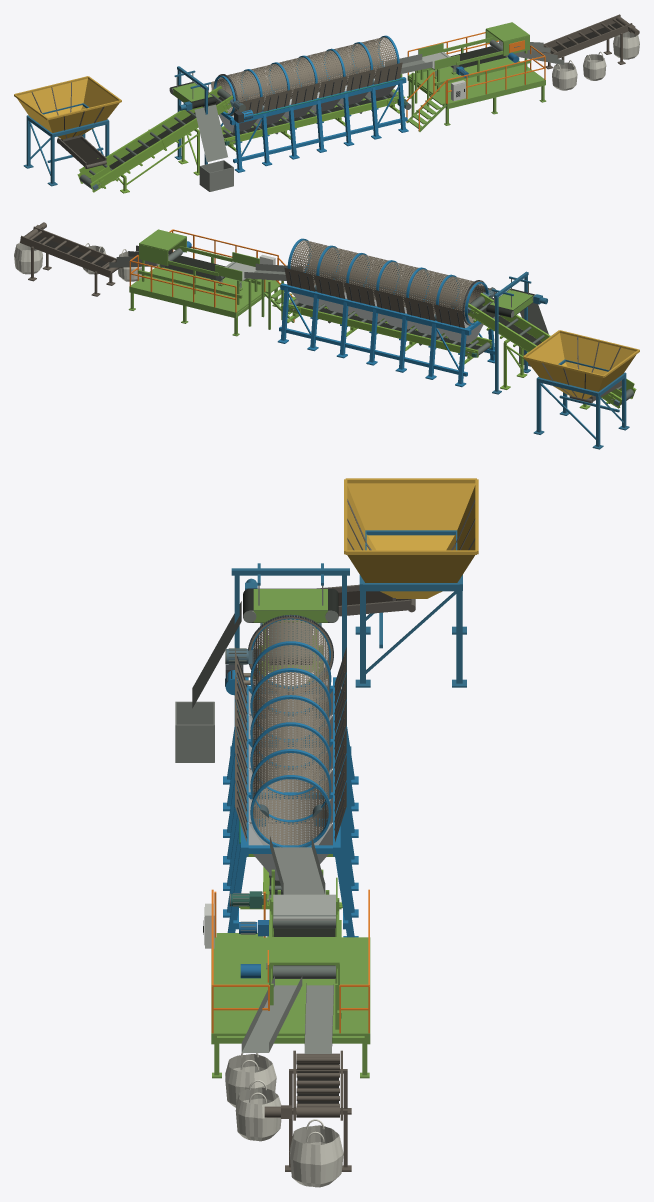
File: BIO_planta_v11.glb
3 renders of one model, top to bottom at view 1: azimuth 30°, elevation 25°; view 2: azimuth 150°, elevation 25°; view 3: azimuth 270°, elevation 25°, orthographic. The views are drawn at different scales.
Parts seen in each view (by area): view 1: Tolva_chapa_amarilla, Piso_plataforma, Chute_ferrosos_SUPUESTO, Larguero_alimentacion_-1, Viga_superior, Panel_02_circular_EST, Panel_03_circular_EST, Panel_04_circular_EST, Panel_01_circular_EST, Panel_05_circular_EST, Larguero_alimentacion_1, Panel_00_circular_EST (+28 smaller); view 2: Tolva_chapa_amarilla, Piso_plataforma, Viga_superior.001, Panel_02_circular_EST, Panel_04_circular_EST, Panel_03_circular_EST, Panel_01_circular_EST, Panel_05_circular_EST, Panel_00_circular_EST, Larguero_verde_1, Viga_inferior.001, Lateral_banda_seleccion_EST.001 (+25 smaller); view 3: Tolva_chapa_amarilla, Piso_plataforma, Panel_05_circular_EST, Panel_04_circular_EST, Saco_extremo_banda_EST, Panel_03_circular_EST, Cuerpo_imán_SUPUESTO, Tromel_a_alimentador_Eddy_SUPUESTO, Salida_noferrosos_SUPUESTO, Panel_02_circular_EST, Panel_01_circular_EST, Cubierta_cabezal (+8 smaller).
Boxes of the visible parts, box(x1,y1,x2,y2) form: Tolva_chapa_amarilla: box(17, 78, 119, 139); Piso_plataforma: box(407, 57, 545, 104); Chute_ferrosos_SUPUESTO: box(194, 104, 227, 162); Larguero_alimentacion_-1: box(90, 97, 232, 191); Viga_superior: box(230, 77, 406, 124); Panel_02_circular_EST: box(270, 57, 315, 98); Panel_03_circular_EST: box(298, 50, 342, 92); Panel_04_circular_EST: box(326, 43, 370, 85); Panel_01_circular_EST: box(243, 64, 287, 105); Panel_05_circular_EST: box(353, 37, 396, 78); Larguero_alimentacion_1: box(78, 87, 222, 182); Panel_00_circular_EST: box(214, 70, 259, 114); Tolva_chapa_amarilla: box(525, 333, 636, 399); Piso_plataforma: box(129, 264, 277, 313); Viga_superior.001: box(280, 283, 471, 335); Panel_02_circular_EST: box(379, 261, 427, 307); Panel_04_circular_EST: box(319, 247, 367, 292); Panel_03_circular_EST: box(349, 254, 397, 299); Panel_01_circular_EST: box(409, 269, 456, 314); Panel_05_circular_EST: box(290, 240, 337, 285); Panel_00_circular_EST: box(438, 276, 488, 323); Larguero_verde_1: box(288, 305, 478, 356); Viga_inferior.001: box(279, 326, 467, 376); Lateral_banda_seleccion_EST.001: box(20, 235, 110, 277); Tolva_chapa_amarilla: box(347, 483, 475, 598); Piso_plataforma: box(211, 937, 370, 1035); Panel_05_circular_EST: box(252, 753, 329, 847); Panel_04_circular_EST: box(252, 726, 329, 819); Saco_extremo_banda_EST: box(289, 1125, 343, 1187); Panel_03_circular_EST: box(252, 699, 329, 792); Cuerpo_imán_SUPUESTO: box(253, 589, 327, 622); Tromel_a_alimentador_Eddy_SUPUESTO: box(270, 836, 325, 894); Salida_noferrosos_SUPUESTO: box(241, 976, 302, 1052); Panel_02_circular_EST: box(252, 672, 329, 765); Panel_01_circular_EST: box(252, 645, 329, 738); Cubierta_cabezal: box(269, 937, 339, 965).
Size of the model in its own units: 24.63 by 3.7 by 5.55.
